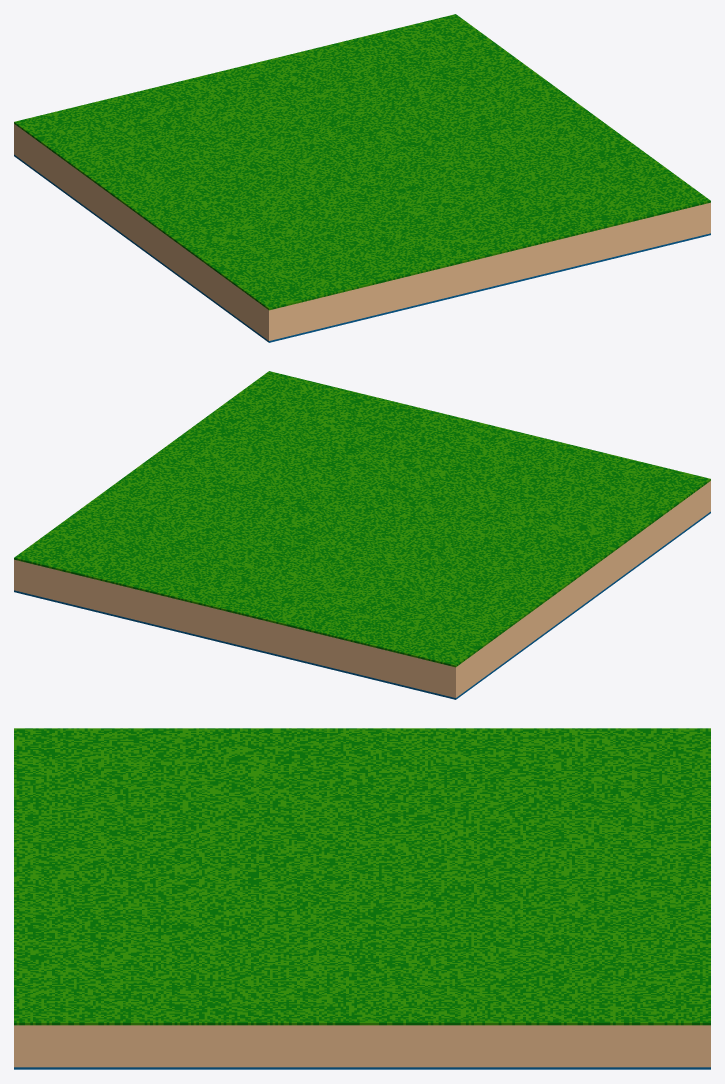
The model's file is castelloVillafranca-5.obj.
The picture shows the model from 3 angles, top to bottom: view 1: azimuth 30°, elevation 25°; view 2: azimuth 150°, elevation 25°; view 3: azimuth 270°, elevation 25°; orthographic projection. The views are drawn at different scales.
Bounding box in the file's own units: 25.6 × 1.9 × 25.6.
Materials: 1 (1 with a texture image).
